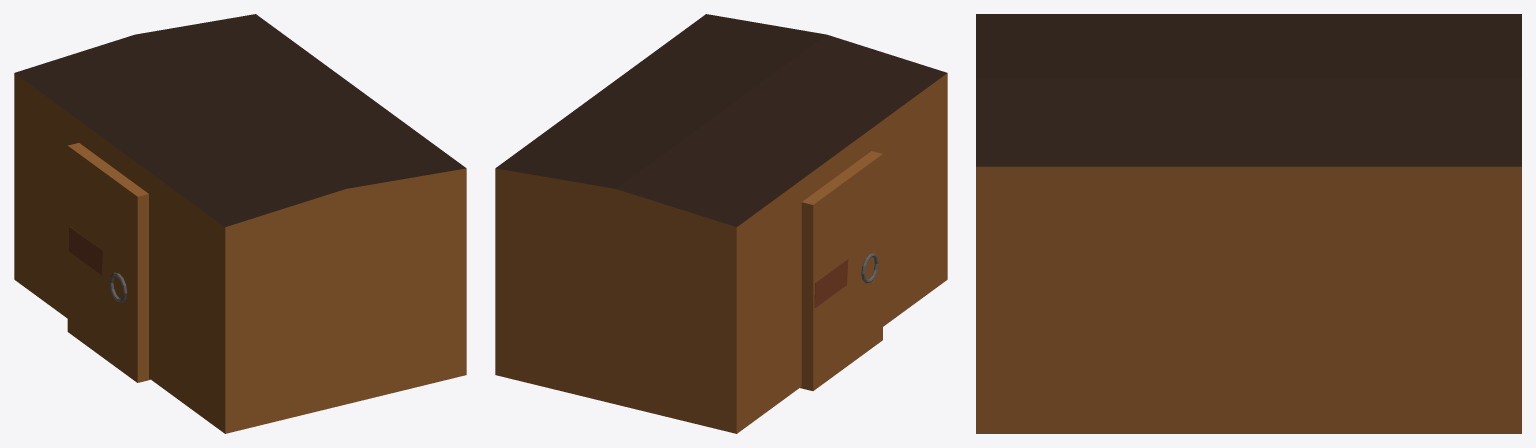
File: cabin.glb
3 views of the same model, side by side, from view 1: azimuth 30°, elevation 25°; view 2: azimuth 150°, elevation 25°; view 3: azimuth 270°, elevation 25° (orthographic). The views are drawn at different scales.
Visible parts, largest first — view 1: house_col, Cube-noimp, Cube.004; view 2: house_col, Cube-noimp, Cube.004; view 3: house_col.
Part boxes in pixels (x1,y1,x2,y2): house_col: (14, 14, 466, 433); Cube-noimp: (67, 143, 150, 382); Cube.004: (68, 226, 102, 274); house_col: (495, 14, 947, 433); Cube-noimp: (800, 151, 882, 390); Cube.004: (814, 259, 848, 307); house_col: (976, 14, 1521, 433).
Size of what is drawn, in the model's own units: 3.04 by 2.45 by 4.31.
